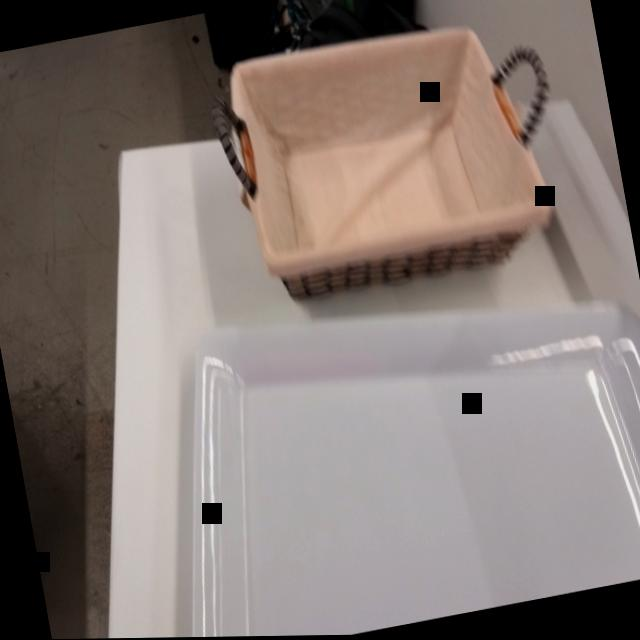basket: (201, 0, 576, 319)
tray: (126, 242, 640, 639)
